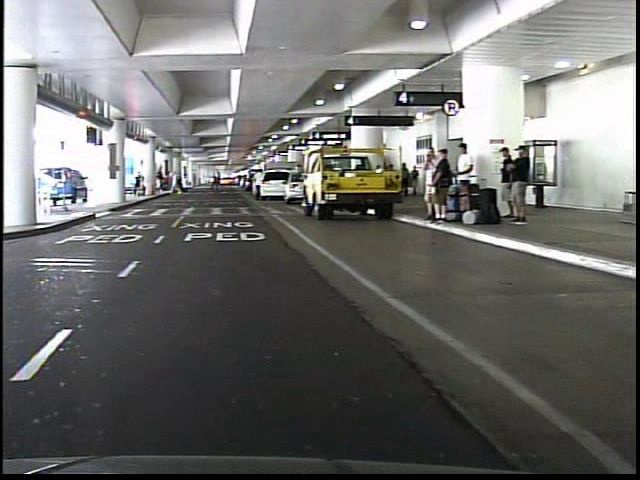person: (506, 144, 525, 226), (414, 145, 433, 218), (162, 165, 177, 199), (247, 165, 262, 195)
